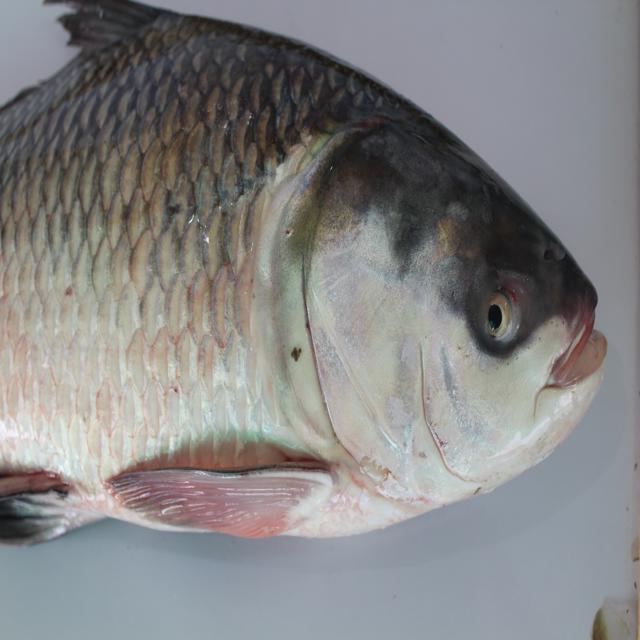Indian Carp: (0, 0, 611, 540)
